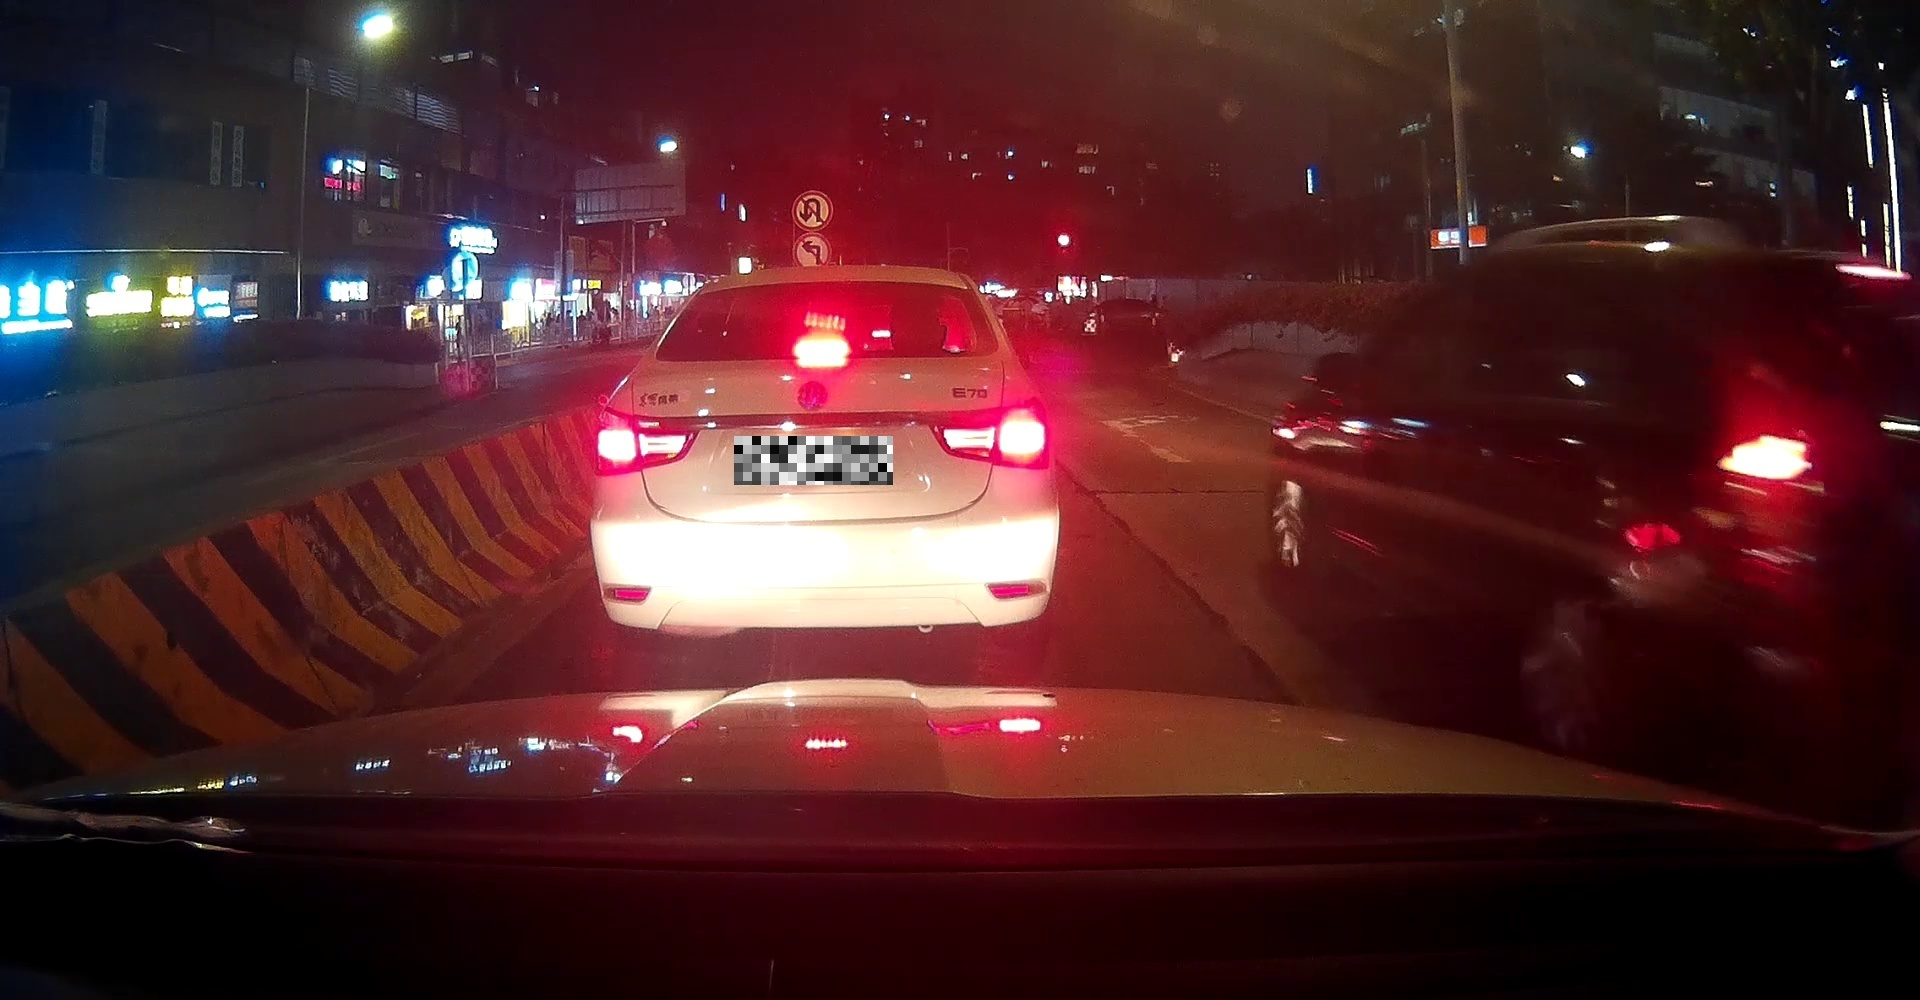L_light: (596, 407, 702, 478)
R_light: (931, 396, 1050, 470)
T_light: (792, 338, 848, 357)
night-brake: (589, 265, 1060, 643)
plate_1: (734, 437, 893, 485)
